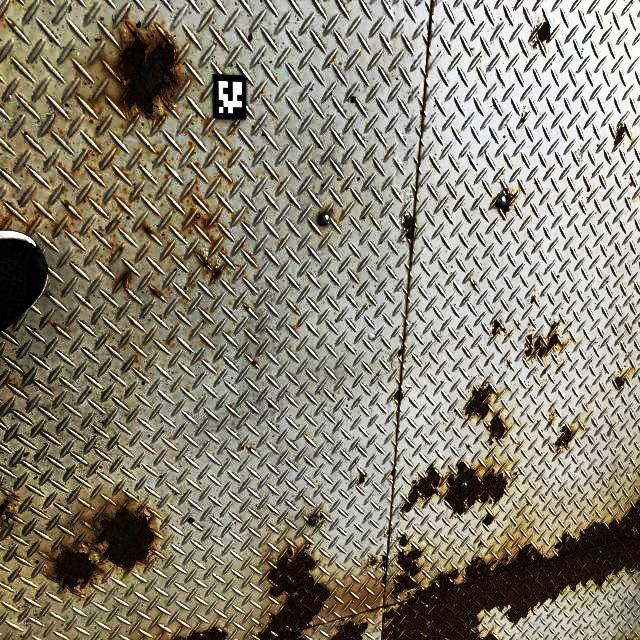Corrosion: (381, 499, 640, 640), (98, 14, 182, 130), (251, 541, 332, 640), (84, 498, 157, 573), (444, 460, 508, 517), (46, 540, 105, 596), (400, 462, 443, 515), (523, 318, 564, 362), (392, 546, 423, 600), (183, 210, 218, 254), (464, 382, 495, 421), (328, 615, 369, 640), (551, 424, 579, 456), (532, 20, 557, 52), (173, 626, 229, 640), (486, 411, 507, 446), (496, 187, 517, 216), (0, 498, 17, 530), (613, 122, 633, 146), (403, 214, 415, 241), (491, 318, 507, 338), (194, 251, 211, 268), (120, 270, 132, 292), (212, 263, 227, 280), (518, 104, 529, 125), (22, 218, 37, 232), (614, 376, 628, 390), (397, 533, 410, 548), (482, 512, 494, 527), (0, 215, 11, 231), (393, 388, 404, 402), (34, 208, 48, 219), (546, 412, 556, 427), (142, 223, 154, 235), (151, 287, 162, 298), (358, 473, 367, 486), (186, 208, 194, 222), (380, 555, 387, 570), (229, 123, 237, 135), (309, 514, 318, 522), (9, 493, 19, 500), (370, 557, 377, 566), (397, 347, 404, 356), (322, 211, 331, 218), (381, 573, 386, 585), (530, 296, 536, 305), (204, 116, 209, 126), (64, 201, 70, 209), (188, 517, 195, 523), (10, 204, 16, 211), (391, 468, 396, 476), (477, 541, 483, 547), (513, 471, 518, 478), (319, 513, 324, 520), (119, 246, 124, 253), (251, 360, 257, 365), (387, 527, 390, 536), (115, 487, 120, 491), (245, 306, 249, 310), (473, 283, 476, 287), (259, 622, 262, 626), (249, 447, 252, 450), (536, 273, 538, 277)
